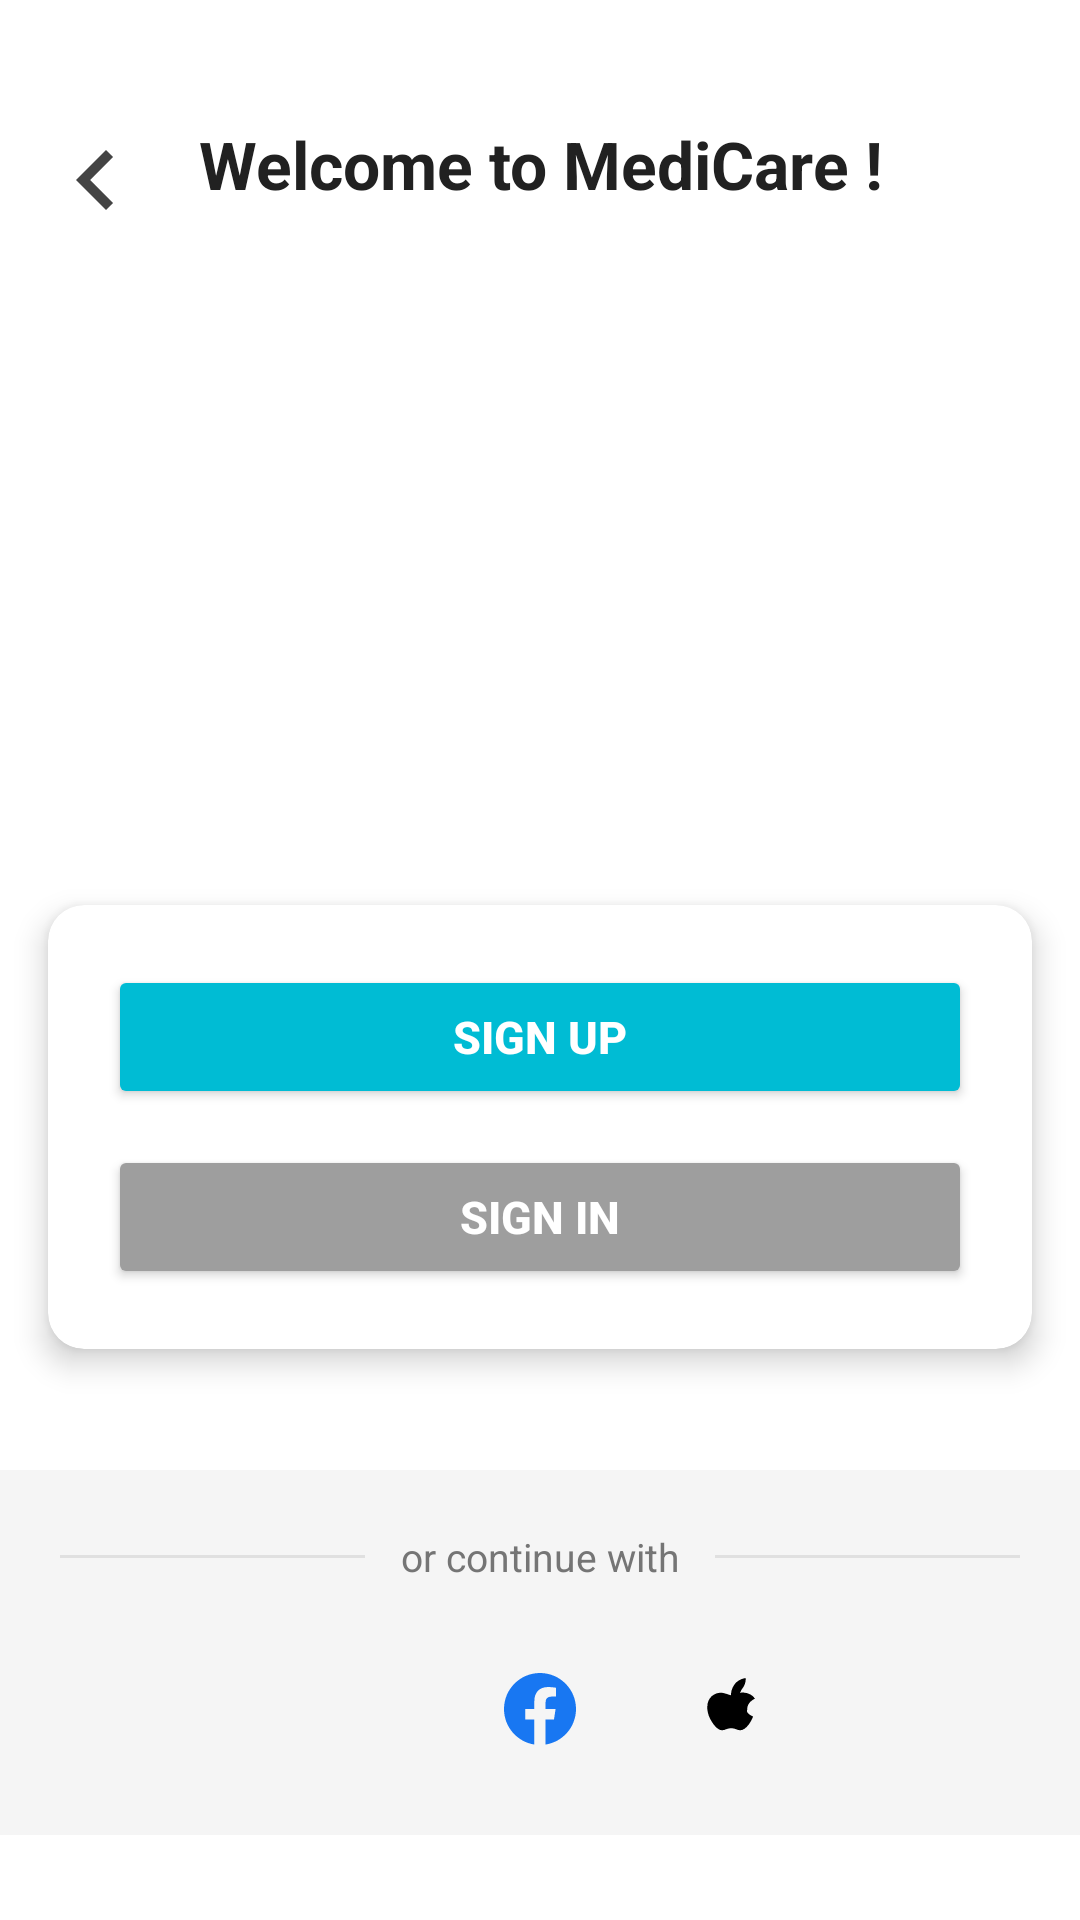

Icons on this 1080 x 1920 Android screen, each with its box as bbox(x1, y1, x2, y2):
Back Button: bbox(76, 150, 113, 210)
